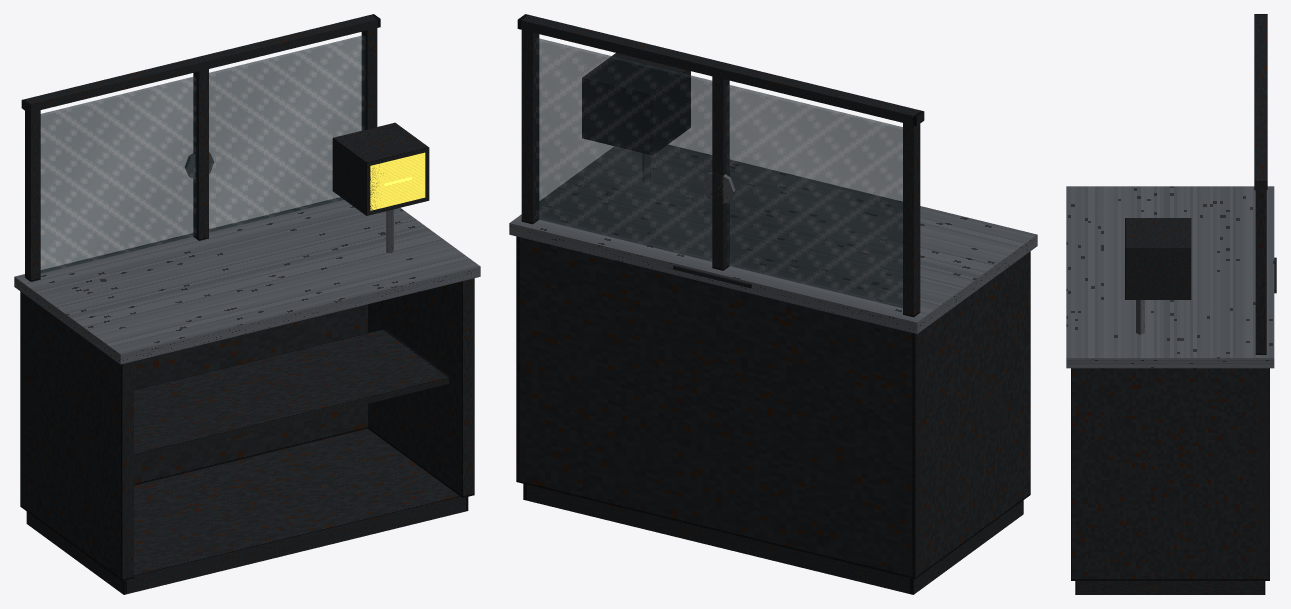
The model's file is security_desk_industrial_hazard.glb.
3 views of the same model, side by side, from view 1: azimuth 30°, elevation 25°; view 2: azimuth 150°, elevation 25°; view 3: azimuth 270°, elevation 25° (orthographic). The views are drawn at different scales.
Visible parts, largest first — view 1: security_desk_industrial_hazard; view 2: security_desk_industrial_hazard; view 3: security_desk_industrial_hazard.
Boxes of the visible parts, <box> form: security_desk_industrial_hazard: <box>14,14,480,594</box>; security_desk_industrial_hazard: <box>509,14,1037,594</box>; security_desk_industrial_hazard: <box>1066,14,1276,594</box>.
Size of the model in its own units: 1.84 by 2.07 by 0.95.
6 materials, 6 textured.
